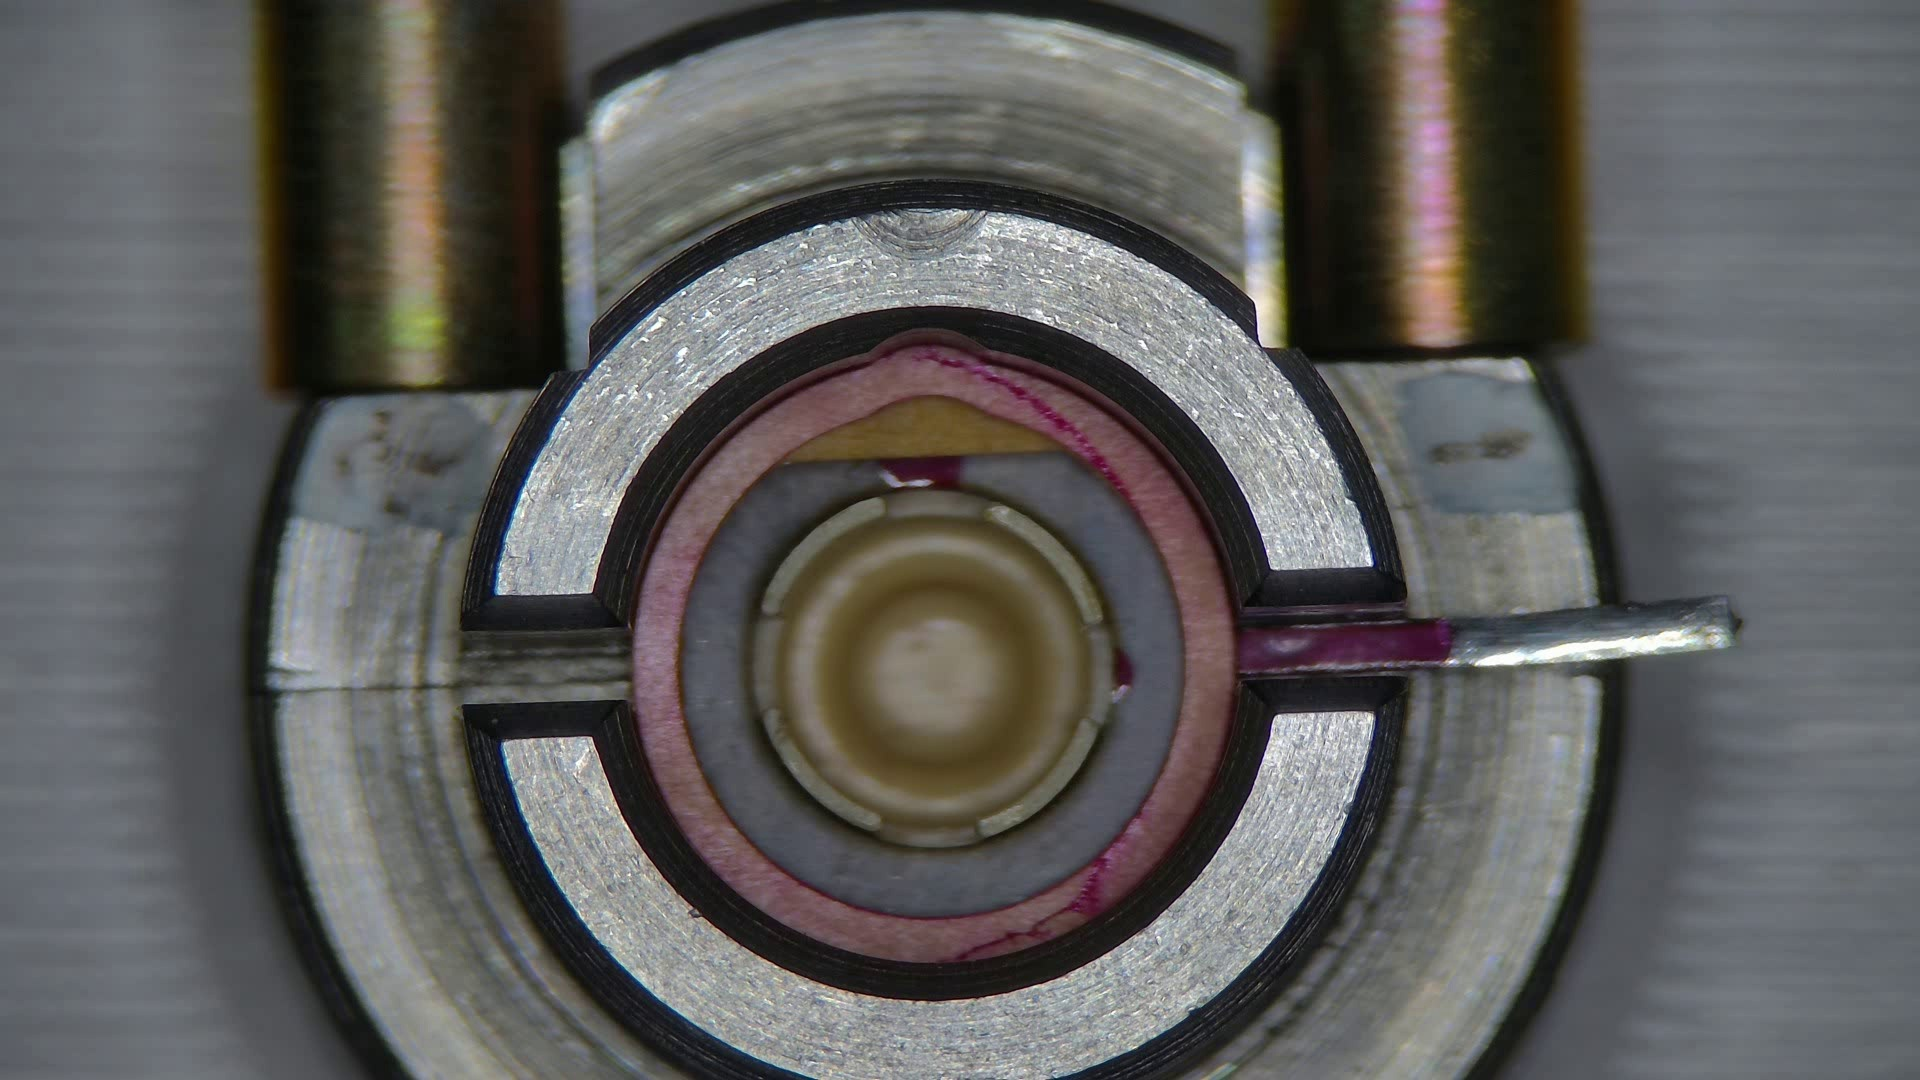GreyOring: (632, 342, 1236, 963)
YellowOring: (680, 454, 1181, 915)
redOring: (789, 399, 1067, 459)
